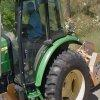Tractor: (5, 12, 87, 100)
